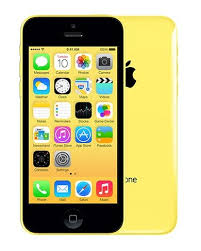iphone5: (17, 13, 126, 233)
